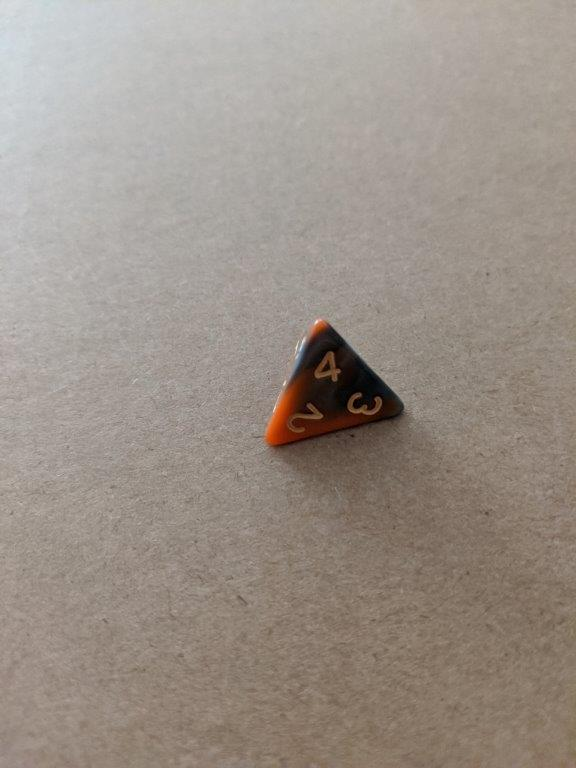d4-4: (261, 315, 410, 452)
